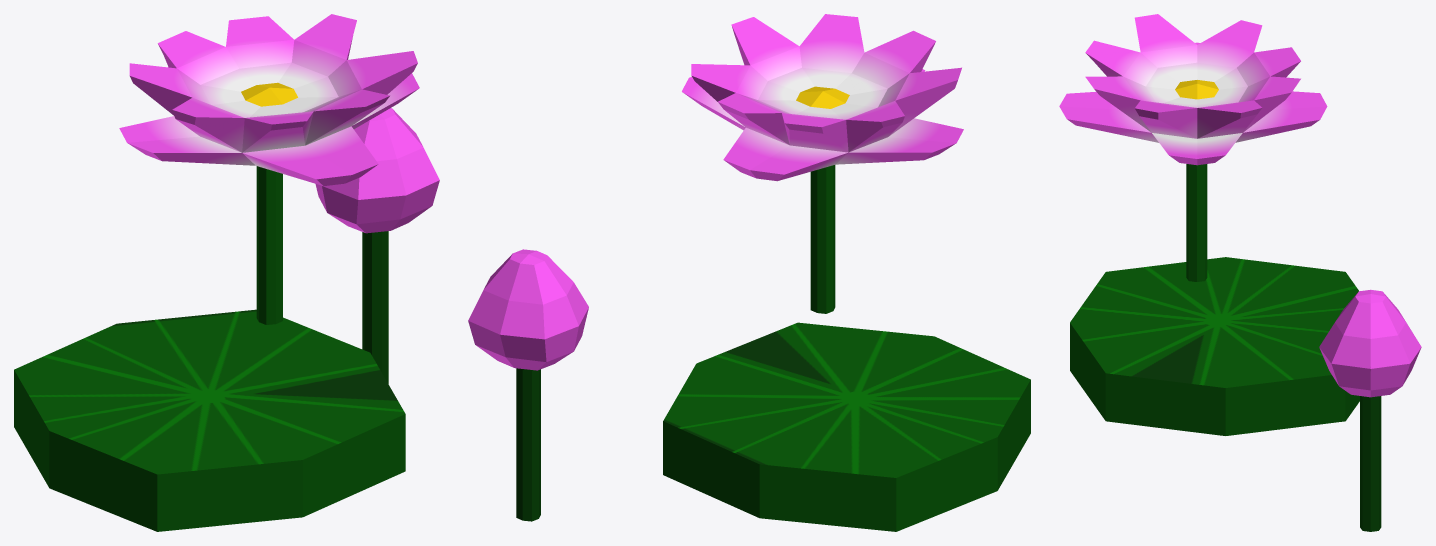
The model's file is Lotus.fbx.
3 renders of one model, left to right at view 1: azimuth 30°, elevation 25°; view 2: azimuth 150°, elevation 25°; view 3: azimuth 270°, elevation 25°, orthographic. The views are drawn at different scales.
Parts seen in each view (by area): view 1: Cube, Cube.002, Cube.001; view 2: Cube, Cube.002, Cube.001; view 3: Cube, Cube.002, Cube.001.
Boxes of the visible parts, bbox=[...] form: Cube: bbox=[14, 309, 405, 531]; Cube.002: bbox=[119, 14, 419, 324]; Cube.001: bbox=[315, 108, 439, 383]; Cube: bbox=[663, 322, 1030, 531]; Cube.002: bbox=[682, 14, 963, 313]; Cube.001: bbox=[468, 249, 588, 521]; Cube: bbox=[1070, 257, 1359, 435]; Cube.002: bbox=[1059, 14, 1327, 281]; Cube.001: bbox=[1319, 289, 1421, 531].
Size of the model in its own units: 376 by 349 by 302.
Materials: 1 (1 with a texture image).
